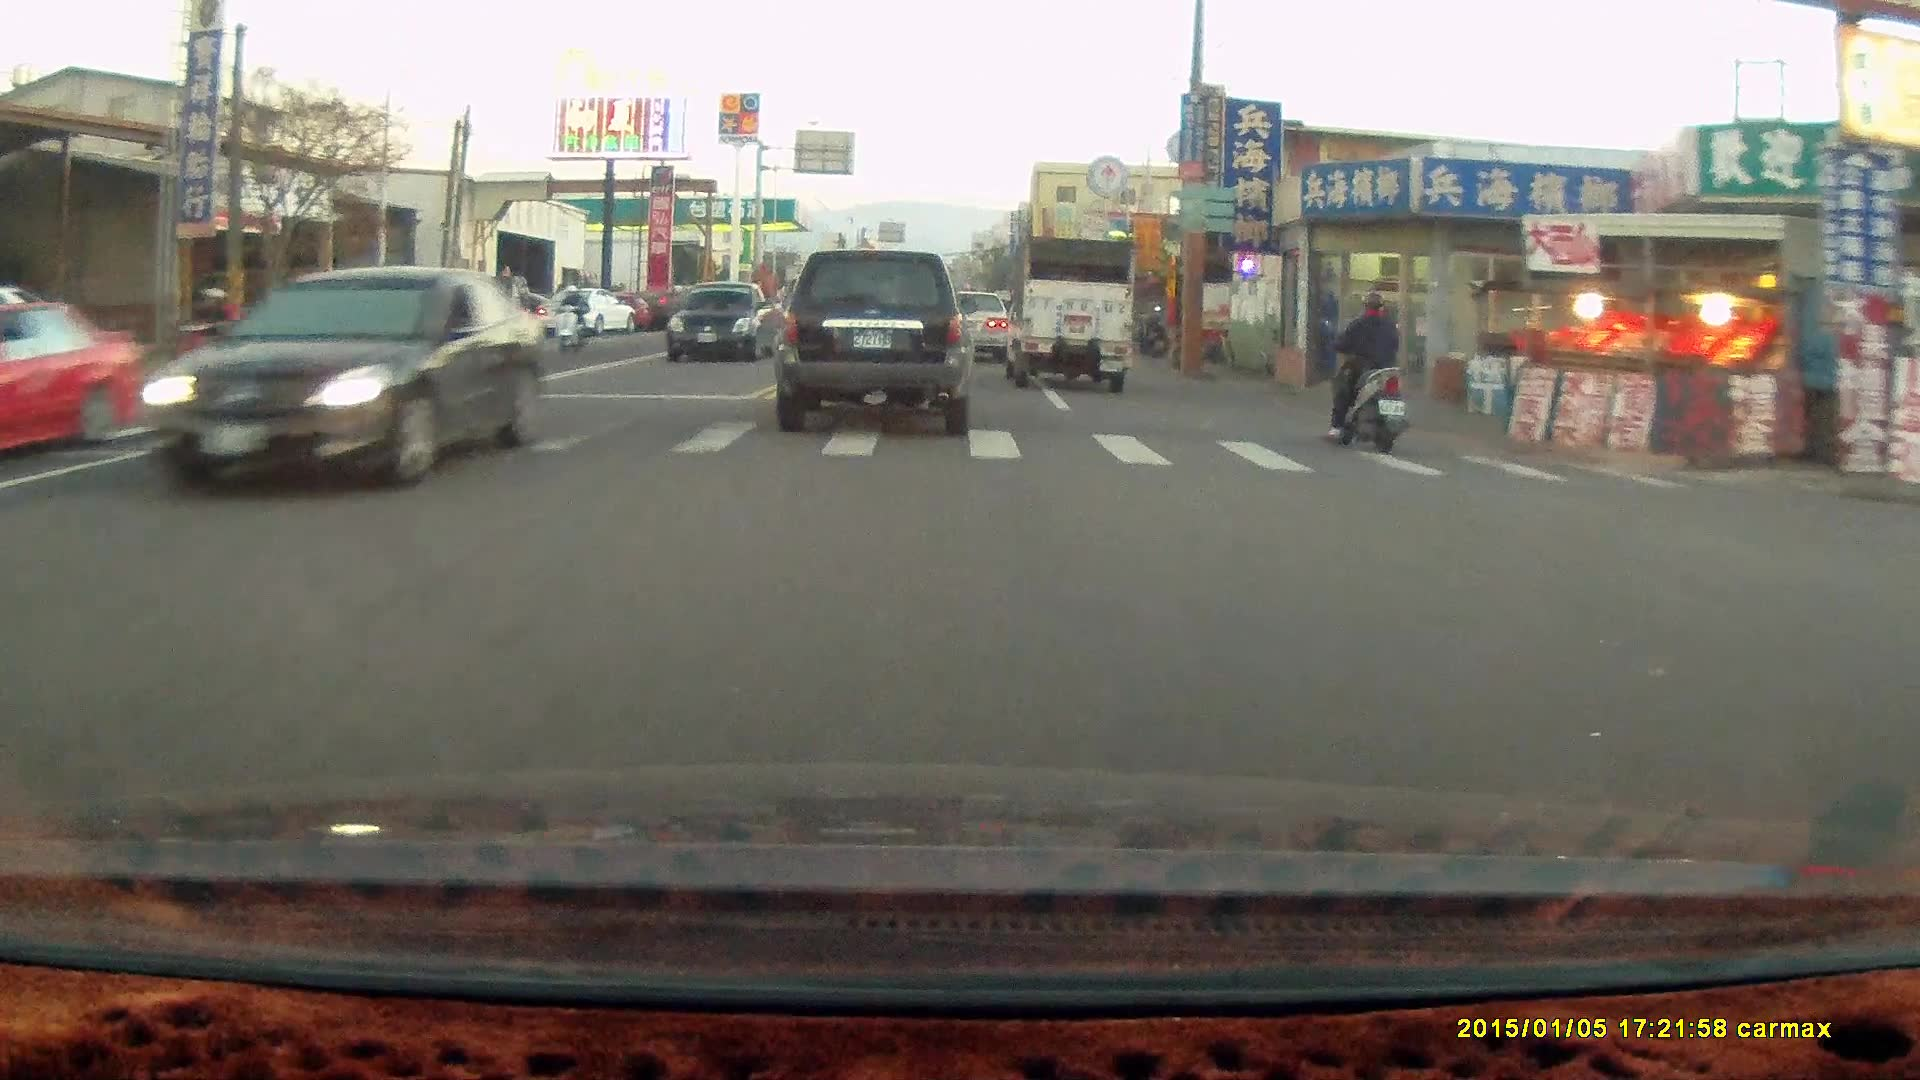rider: (1320, 290, 1412, 456), (549, 282, 589, 358)
vehicle: (129, 265, 550, 495), (774, 249, 979, 435), (1, 291, 144, 471), (1001, 234, 1137, 393), (667, 283, 775, 368), (1, 284, 95, 363), (933, 287, 1009, 361), (947, 292, 1017, 363)
